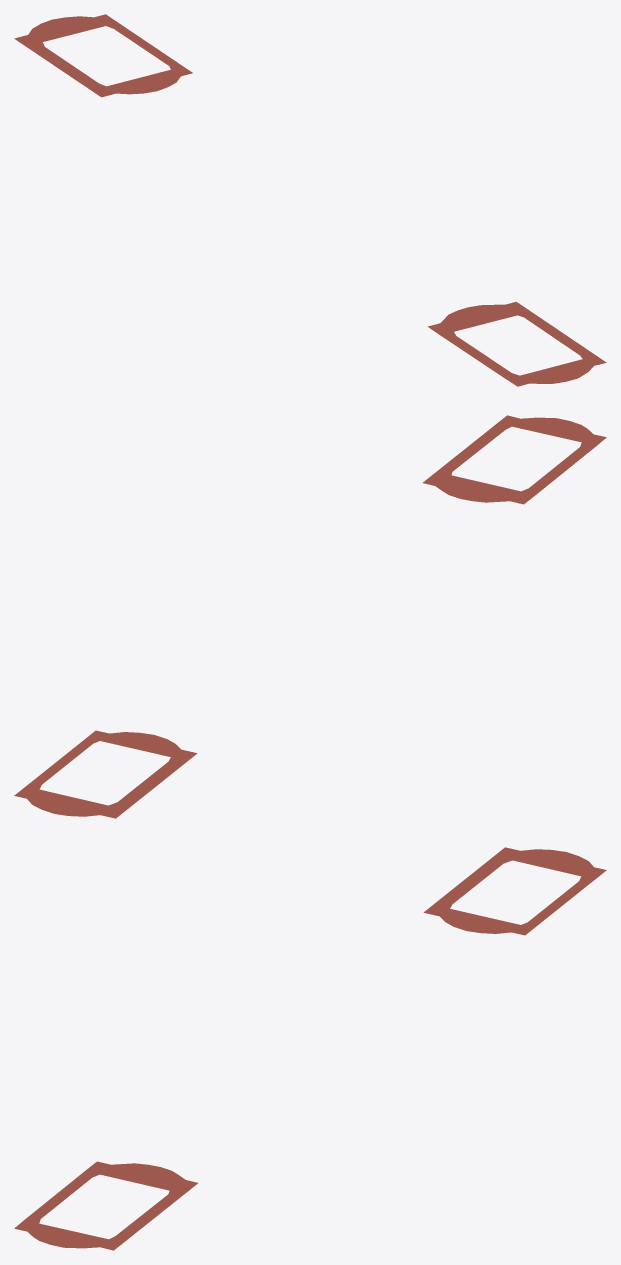
Rendered from SEU_track_relations_v13.glb.
3 renders of one model, top to bottom at view 1: azimuth 30°, elevation 25°; view 2: azimuth 150°, elevation 25°; view 3: azimuth 330°, elevation 25°, orthographic. The views are drawn at different scales.
Parts seen in each view (by area): view 1: SEU_V13_OSMREL_11214073_TARTAN_SURFACE, SEU_V13_OSMREL_11214072_TARTAN_SURFACE; view 2: SEU_V13_OSMREL_11214073_TARTAN_SURFACE, SEU_V13_OSMREL_11214072_TARTAN_SURFACE; view 3: SEU_V13_OSMREL_11214073_TARTAN_SURFACE, SEU_V13_OSMREL_11214072_TARTAN_SURFACE.
Part boxes in pixels (x1,y1,x2,y2): SEU_V13_OSMREL_11214073_TARTAN_SURFACE: (427, 301, 606, 386); SEU_V13_OSMREL_11214072_TARTAN_SURFACE: (14, 14, 192, 97); SEU_V13_OSMREL_11214073_TARTAN_SURFACE: (423, 415, 606, 504); SEU_V13_OSMREL_11214072_TARTAN_SURFACE: (14, 730, 197, 818); SEU_V13_OSMREL_11214073_TARTAN_SURFACE: (14, 1161, 197, 1250); SEU_V13_OSMREL_11214072_TARTAN_SURFACE: (423, 847, 606, 935).
Size of the model in its own units: 116 by 0 by 891.
